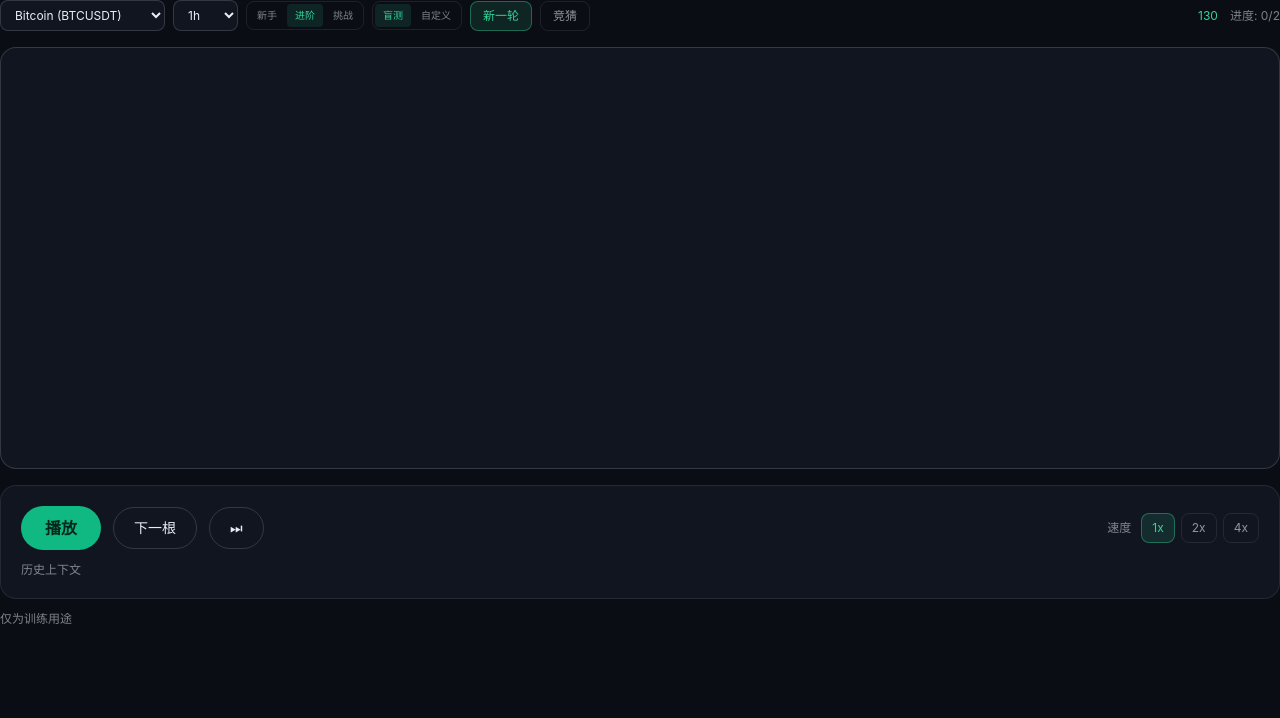
Test case: ReplayTrainer 竞猜模式与战绩 › 猜中累计连胜，答错清零
Expected: the text "130 进度: 0/2" is shown, [1198,8,1279,24]
Click the button "竞猜" at (565, 16), box [540,0,590,30]
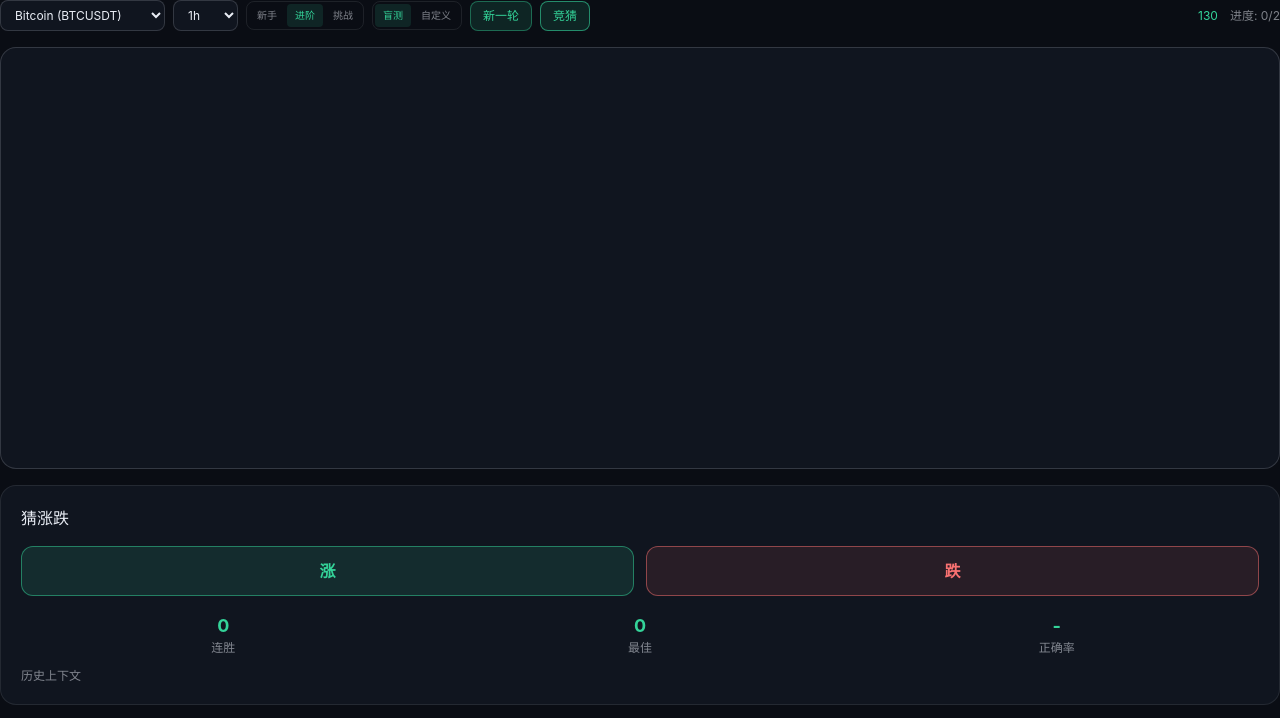
Click the button "涨" at (328, 571), box [21,546,634,596]
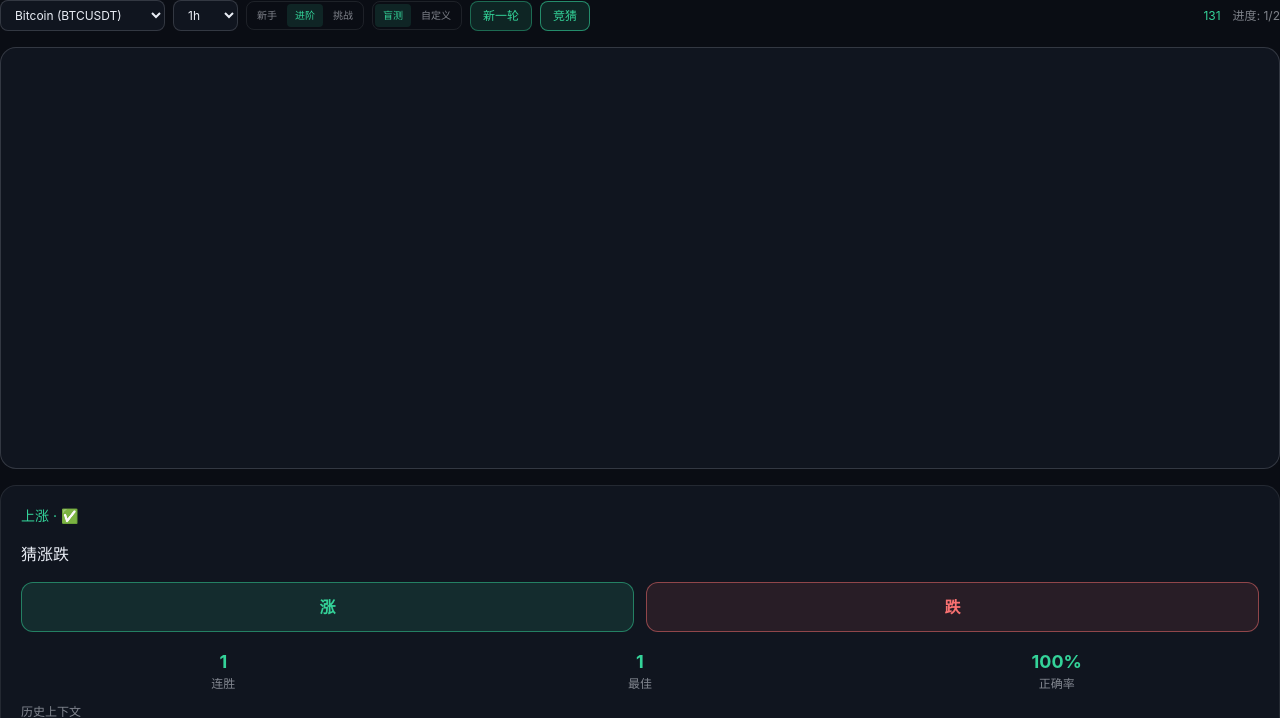
Expected: the text "上涨 · ✅" is shown, [21,507,78,524]
Expected: the text "131 进度: 1/2" is shown, [1203,8,1279,24]
